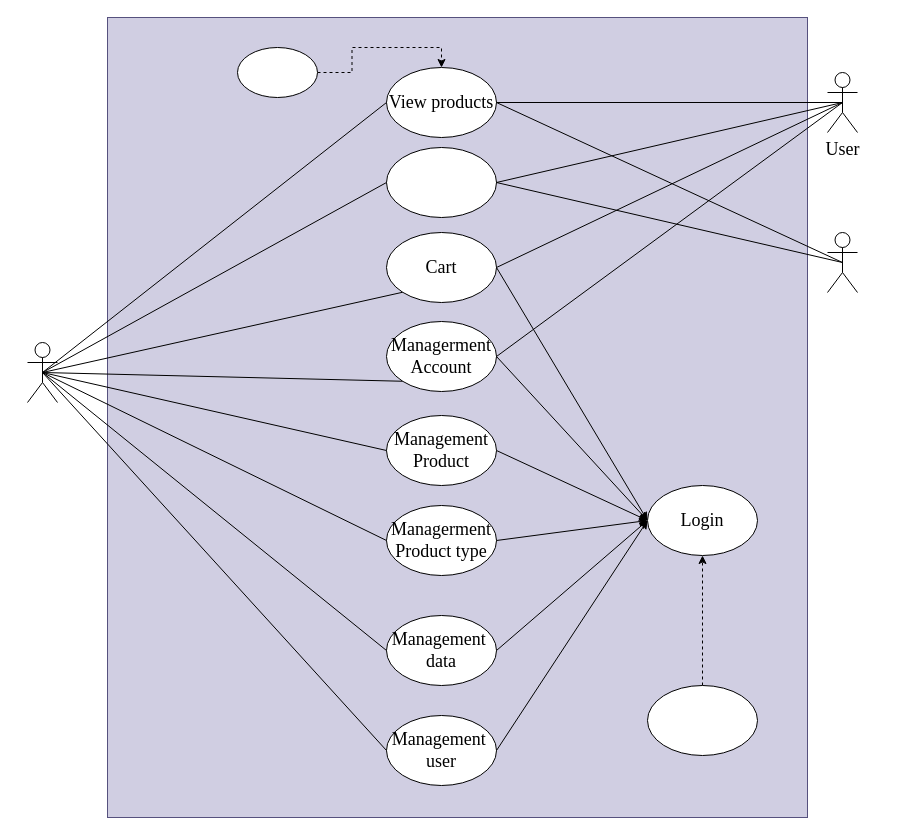
Image size: 906x835. Some labels were removed from this diagram. Here are the shapes that lost their labels. From the top down, the centre of each, then its label:
the point at 277,72: Comment
the point at 441,182: Register account
the point at 842,262: Normal User
the point at 42,372: Admin
the point at 702,720: Logout
